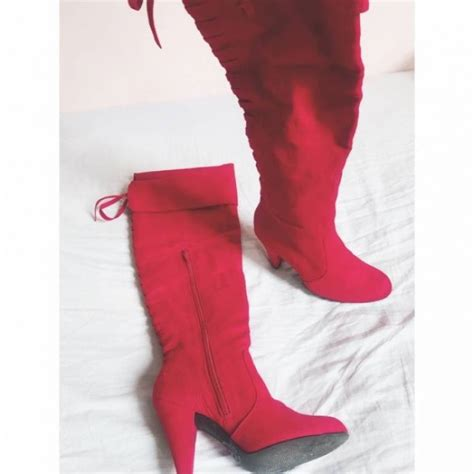gamuza: (125, 1, 392, 474)
